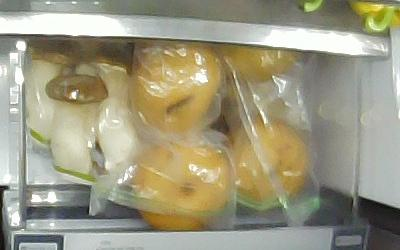pear_vinyl: (130, 141, 230, 230), (130, 41, 220, 133), (228, 119, 310, 200), (220, 43, 298, 81)
